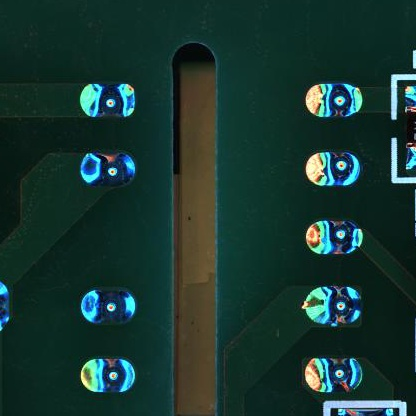spot: (303, 285, 363, 327), (305, 217, 363, 257), (304, 356, 363, 395), (78, 149, 135, 187), (77, 81, 136, 117), (304, 151, 361, 188), (304, 83, 363, 118), (81, 287, 136, 324), (80, 358, 136, 393)
